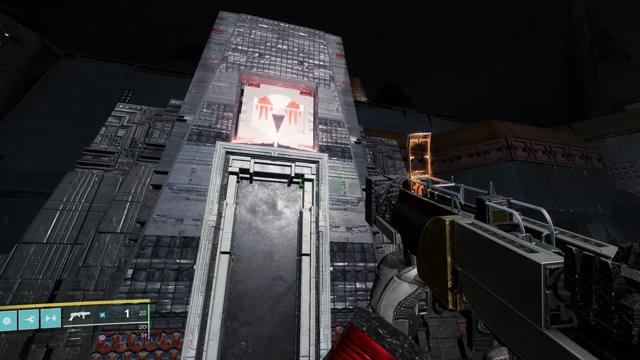give: (250, 93, 305, 139)
